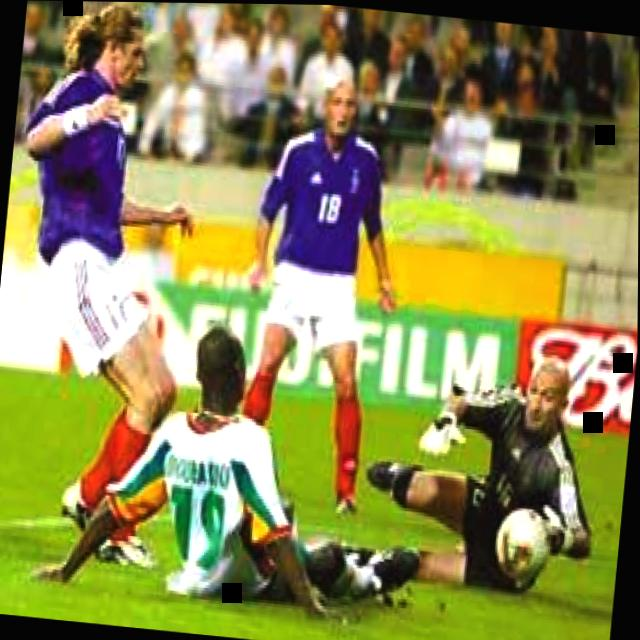Fall-Detected: (31, 286, 440, 632)
